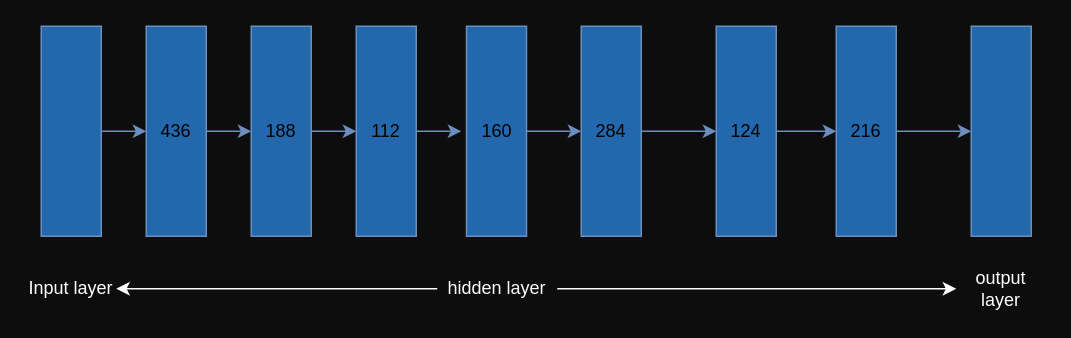
Some shapes in this 1071 by 338 pixel diagram are drawn without their labels. Here are the shapes that lost their labels. From the top down, the centre of each, then its label:
At point 70,130: "Inputs 10".
At point 1000,130: "Output 2".
